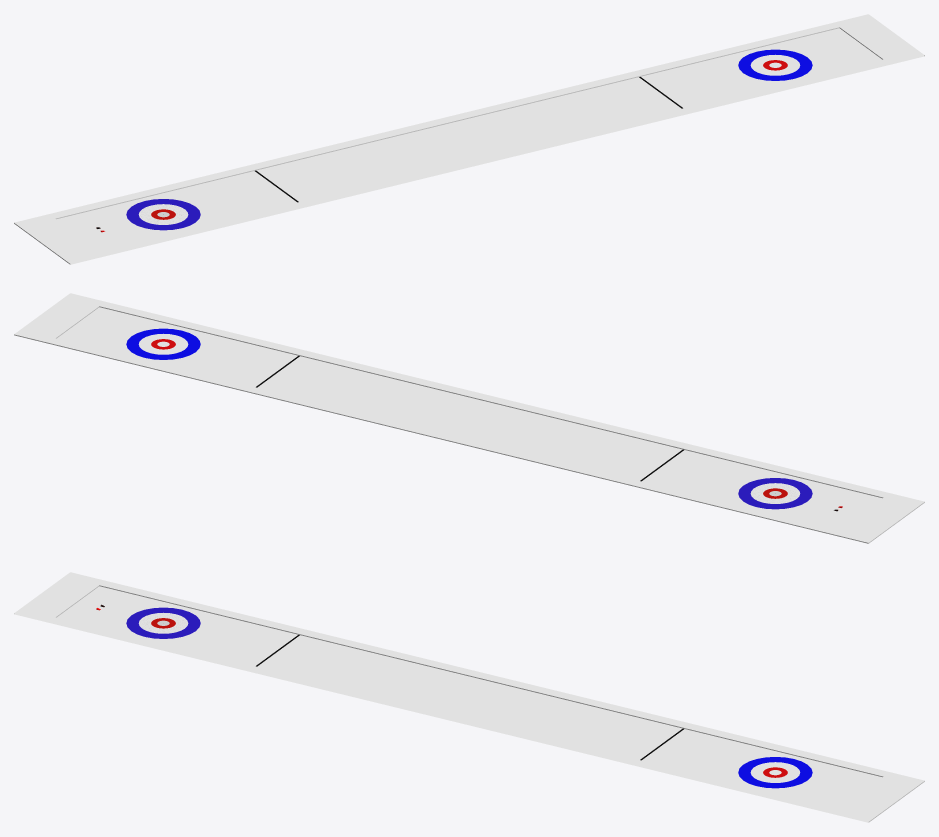
File: piste.dae
3 views of the same model, one above another, from view 1: azimuth 30°, elevation 25°; view 2: azimuth 150°, elevation 25°; view 3: azimuth 330°, elevation 25° (orthographic).
Parts seen in each view (by area): view 1: group_0, group_0_015, group_0_018, group_0_009, group_0_020, group_0_023, group_0_001, group_0_022, group_0_007, group_0_004, group_0_003; view 2: group_0, group_0_018, group_0_015, group_0_009, group_0_020, group_0_023, group_0_001, group_0_022, group_0_007, group_0_004, group_0_003; view 3: group_0, group_0_015, group_0_018, group_0_009, group_0_020, group_0_023, group_0_001, group_0_022, group_0_007, group_0_004, group_0_003.
Part boxes in pixels (x1,y1,x2,y2): group_0: (14, 14, 924, 264); group_0_015: (256, 77, 660, 186); group_0_018: (278, 93, 681, 201); group_0_009: (57, 171, 296, 250); group_0_020: (641, 49, 795, 108); group_0_023: (754, 28, 860, 57); group_0_001: (55, 27, 882, 219); group_0_022: (808, 44, 881, 72); group_0_007: (126, 199, 200, 230); group_0_004: (743, 49, 812, 80); group_0_003: (138, 204, 188, 224); group_0: (14, 293, 924, 543); group_0_018: (278, 356, 682, 465); group_0_015: (257, 372, 660, 480); group_0_009: (642, 450, 881, 529); group_0_020: (143, 328, 297, 387); group_0_023: (57, 323, 144, 359); group_0_001: (56, 306, 883, 498); group_0_022: (78, 307, 152, 336); group_0_007: (738, 478, 812, 509); group_0_004: (126, 328, 200, 357); group_0_003: (750, 483, 800, 503); group_0: (14, 572, 924, 822); group_0_015: (278, 635, 682, 744); group_0_018: (257, 651, 660, 759); group_0_009: (57, 586, 297, 666); group_0_020: (642, 729, 796, 787); group_0_023: (794, 756, 881, 793); group_0_001: (56, 585, 883, 777); group_0_022: (787, 780, 859, 808); group_0_007: (126, 607, 200, 638); group_0_004: (738, 759, 812, 788); group_0_003: (138, 612, 188, 633).
Size of the model in its own units: 48.45 by 5.54 by 0.0508.
